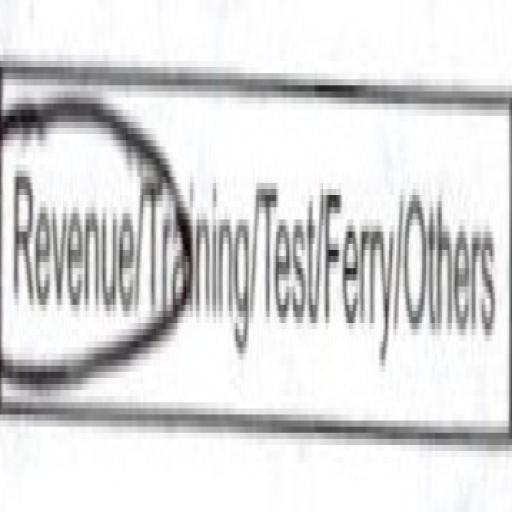check: (0, 43, 139, 439)
